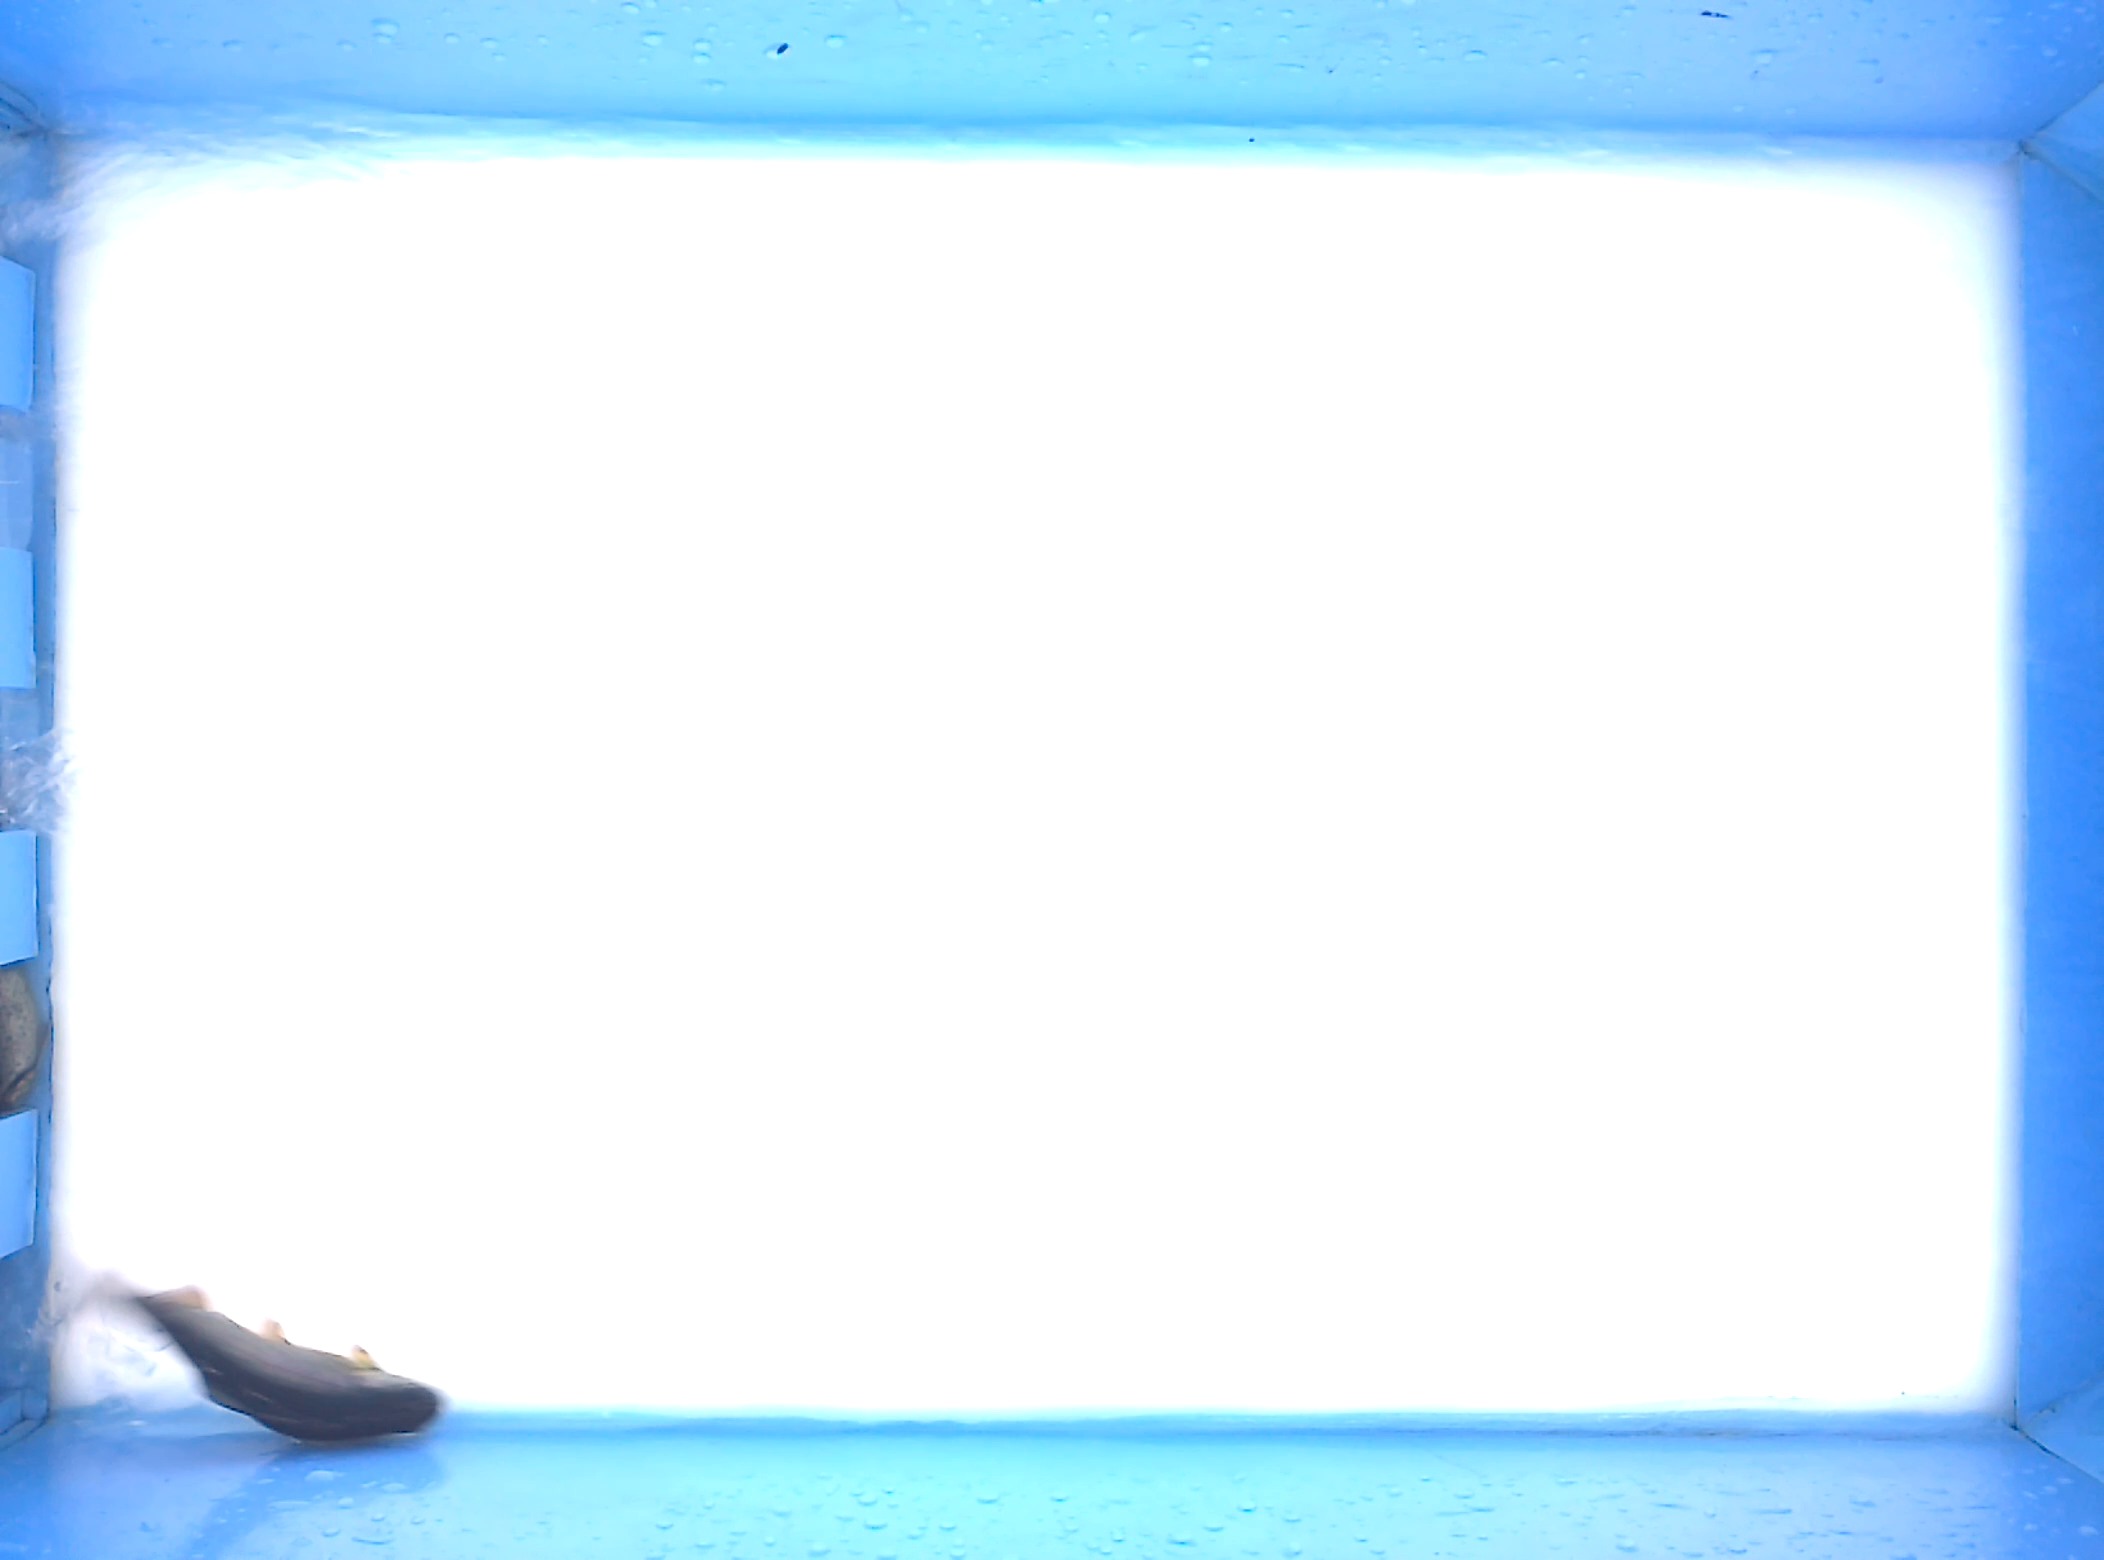fish: (33, 1250, 449, 1449)
